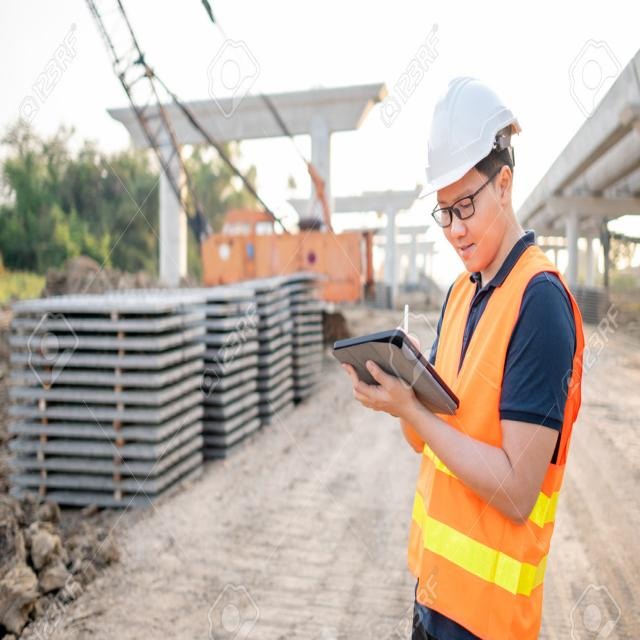goggles: (424, 178, 494, 222)
helmet: (412, 66, 522, 172)
vest: (418, 250, 552, 640)
